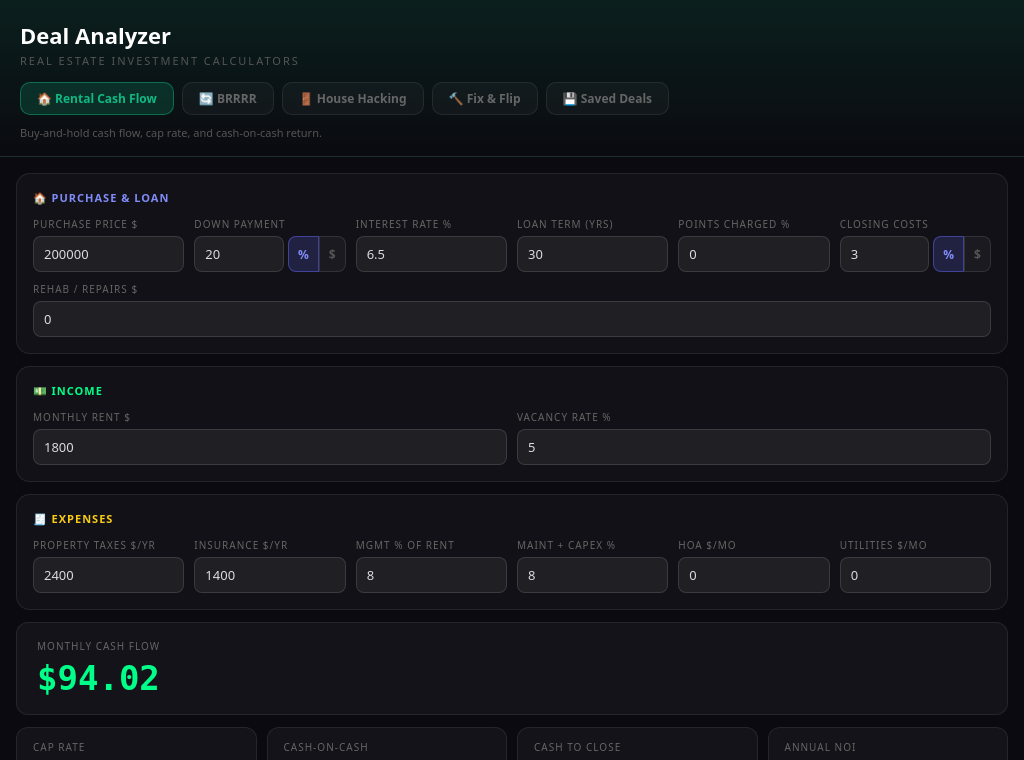
it: points and saved deals › points field raises cash to close without changing cash flow
Expected: the text "$94.02" is shown, 37,658 -> 160,698
Replace the text in the number field named "Points Charged %" with "1" at [754, 254], box 678,236 -> 830,272
(page scrolled)
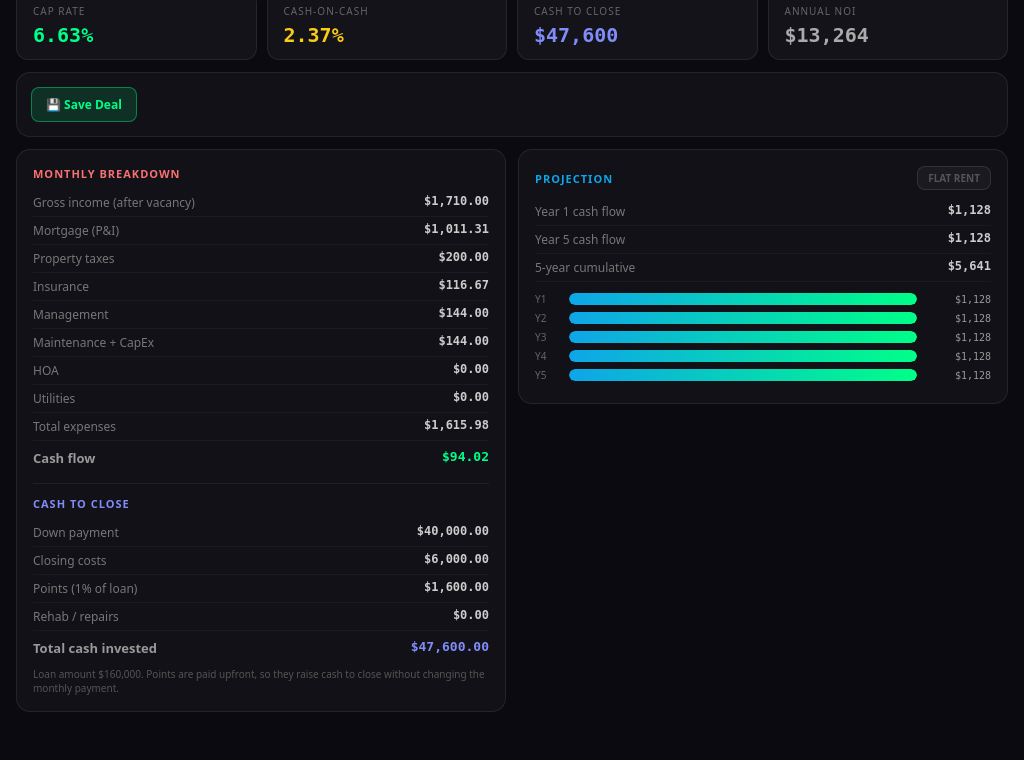
Expected: the text "$47,600" is shown, 534,23 -> 618,47
Expected: the text "Points (1% of loan)" is shown, 33,580 -> 137,597
